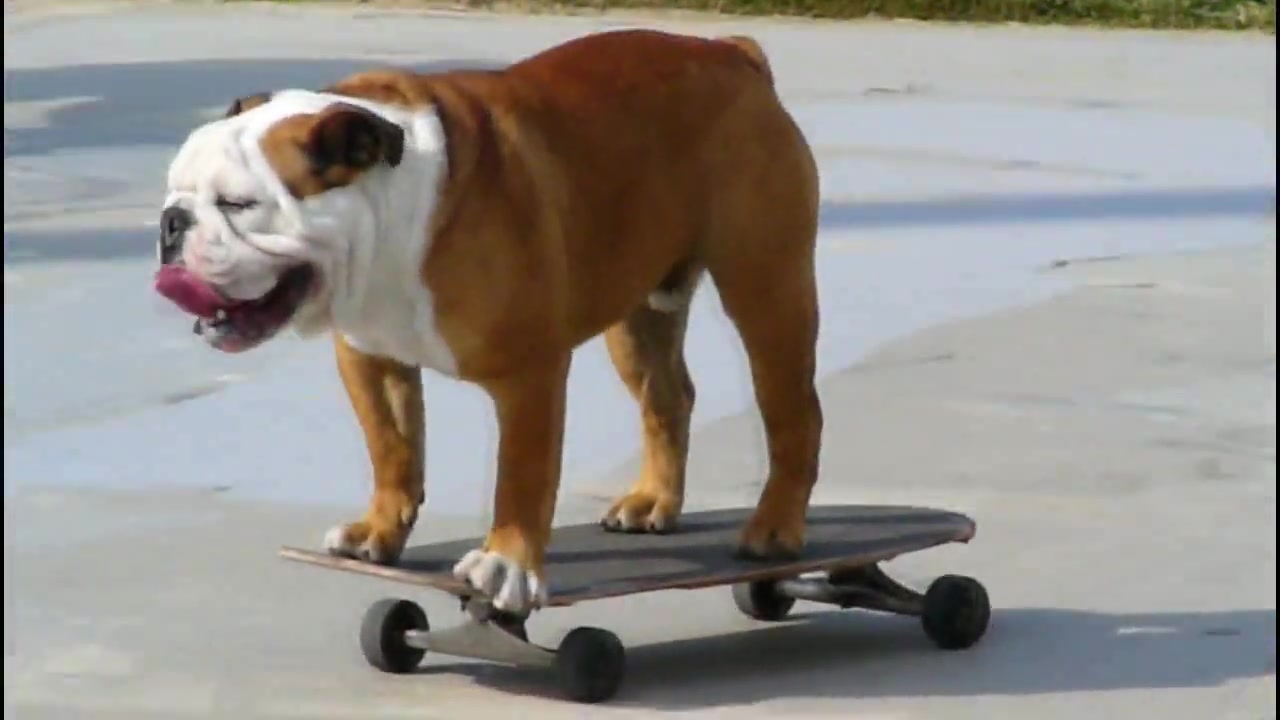dog: (160, 24, 825, 614)
